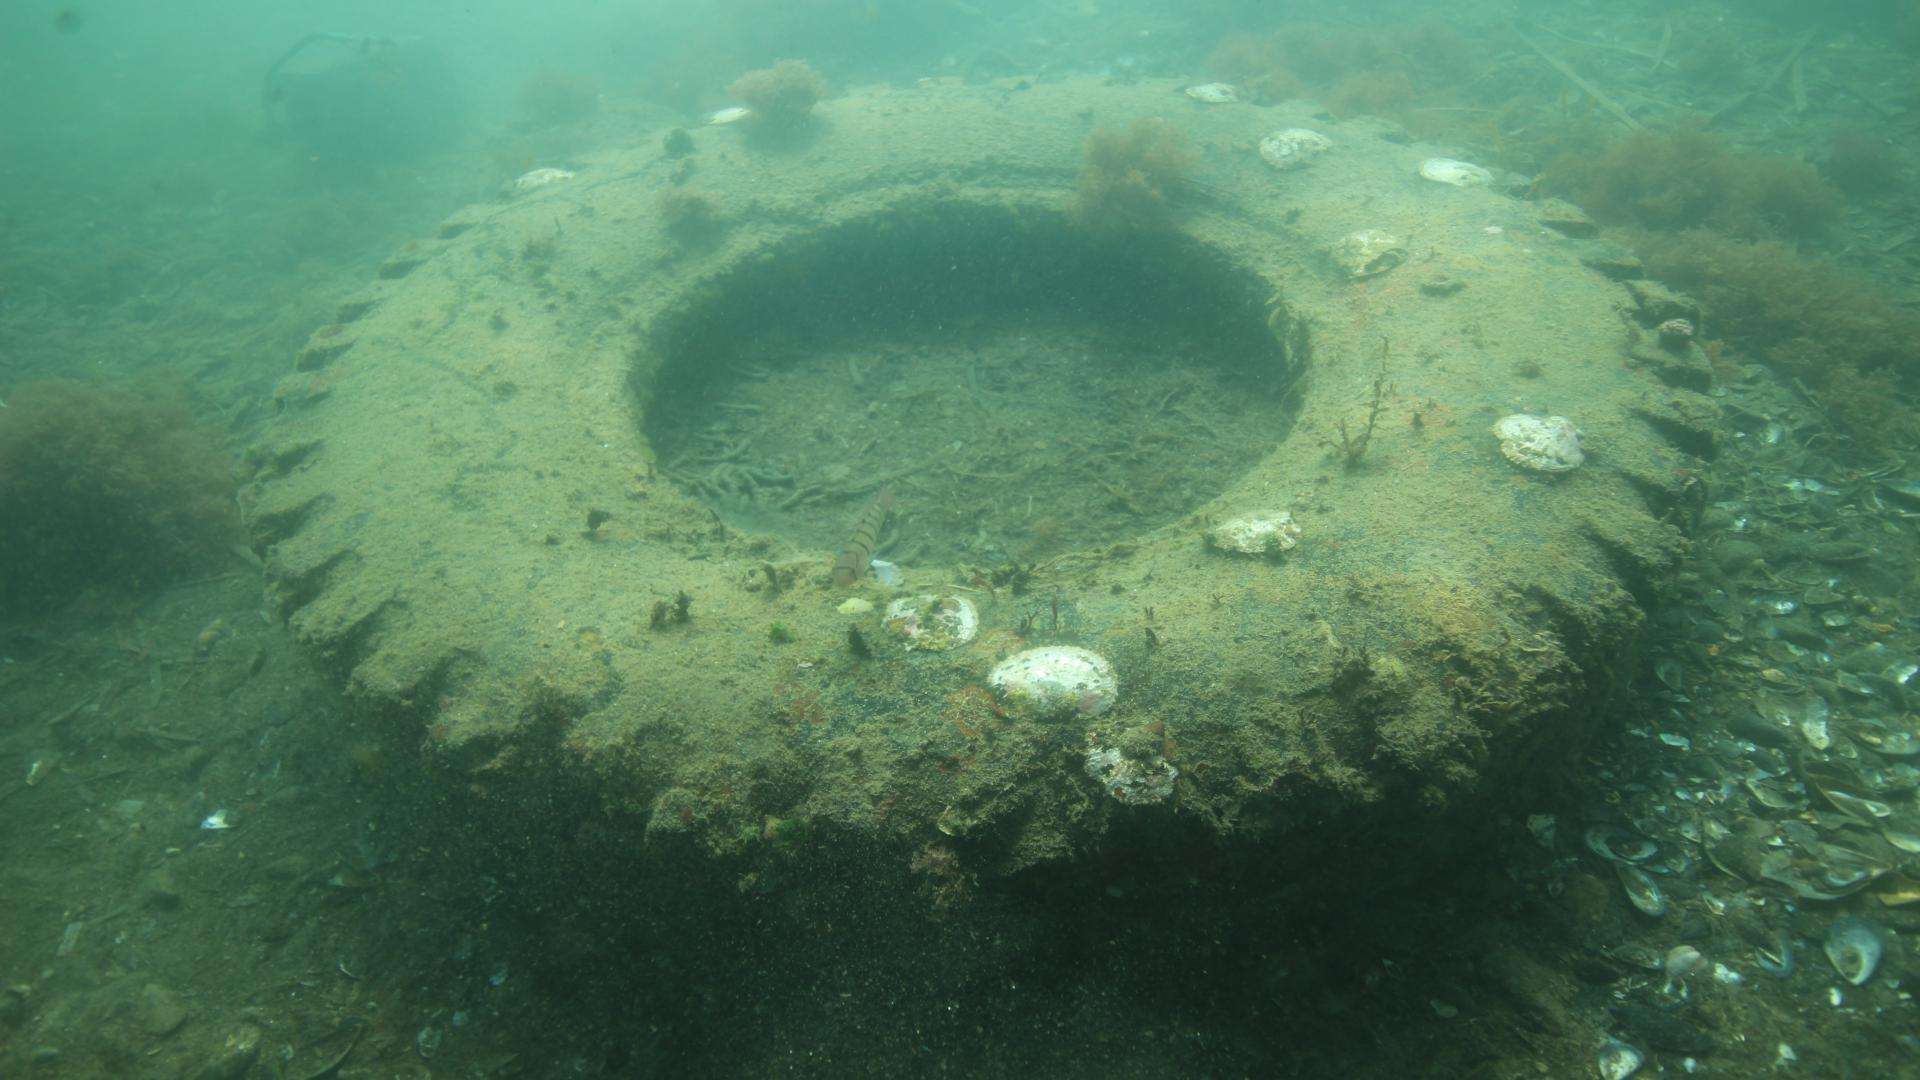tire: (243, 73, 1725, 1019)
